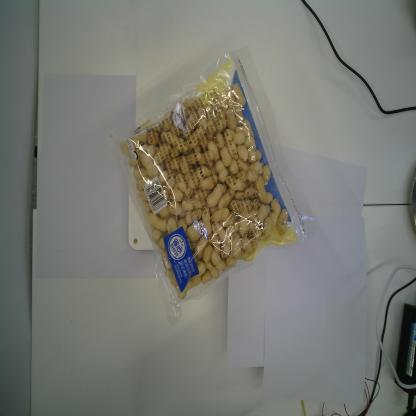Dried Food: (121, 32, 310, 323)
